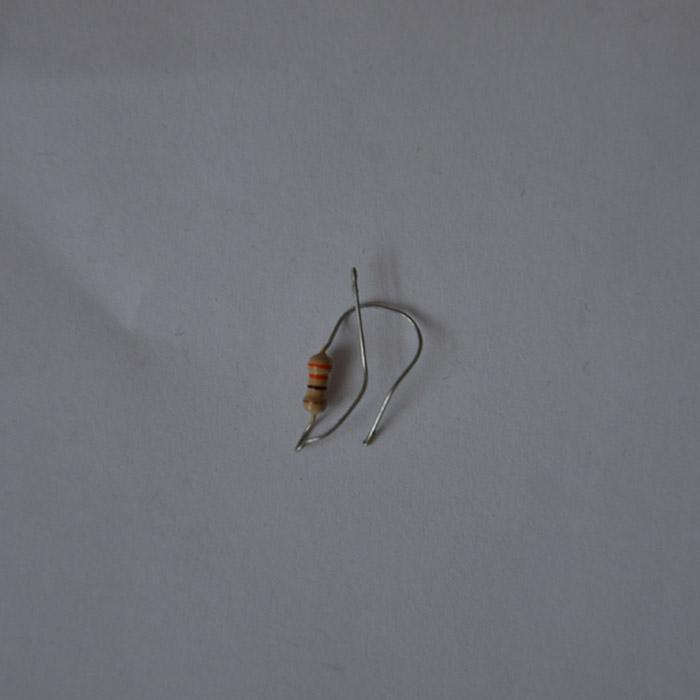resistor: (302, 350, 332, 416)
